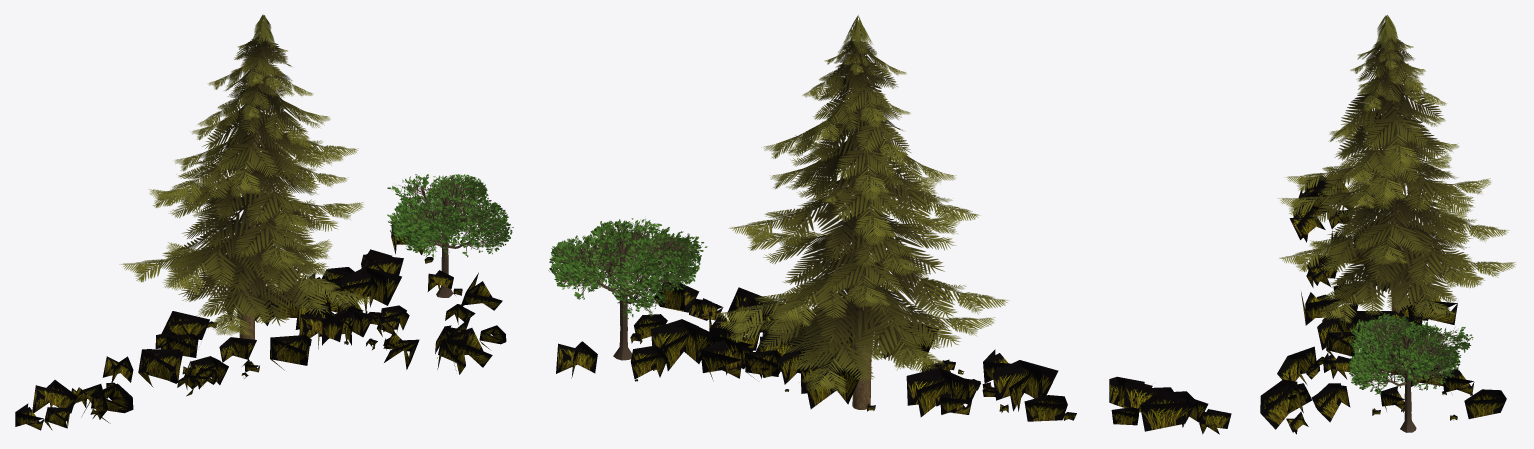
3 views of the same model, side by side, from view 1: azimuth 30°, elevation 25°; view 2: azimuth 150°, elevation 25°; view 3: azimuth 270°, elevation 25° (orthographic). The views are drawn at different scales.
Parts seen in each view (by area): view 1: Low Poly Stylized 2D Grass.3309; view 2: Low Poly Stylized 2D Grass.3309; view 3: Low Poly Stylized 2D Grass.3309.
Boxes of the visible parts, x1,y1,x2,y2 form: Low Poly Stylized 2D Grass.3309: (15,14,513,430); Low Poly Stylized 2D Grass.3309: (548,15,1231,434); Low Poly Stylized 2D Grass.3309: (1260,15,1515,434).
Size of the model in its own units: 23.59 by 15.05 by 10.41.
5 materials, 4 textured.
